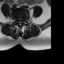CCS_stenosis: (19, 19, 21, 27)
LFS_severe_stenosis: (22, 18, 24, 22)
LLS_severe_stenosis: (21, 19, 22, 23)
RFS_severe_stenosis: (15, 18, 17, 23)
RLS_severe_stenosis: (17, 18, 19, 24)
